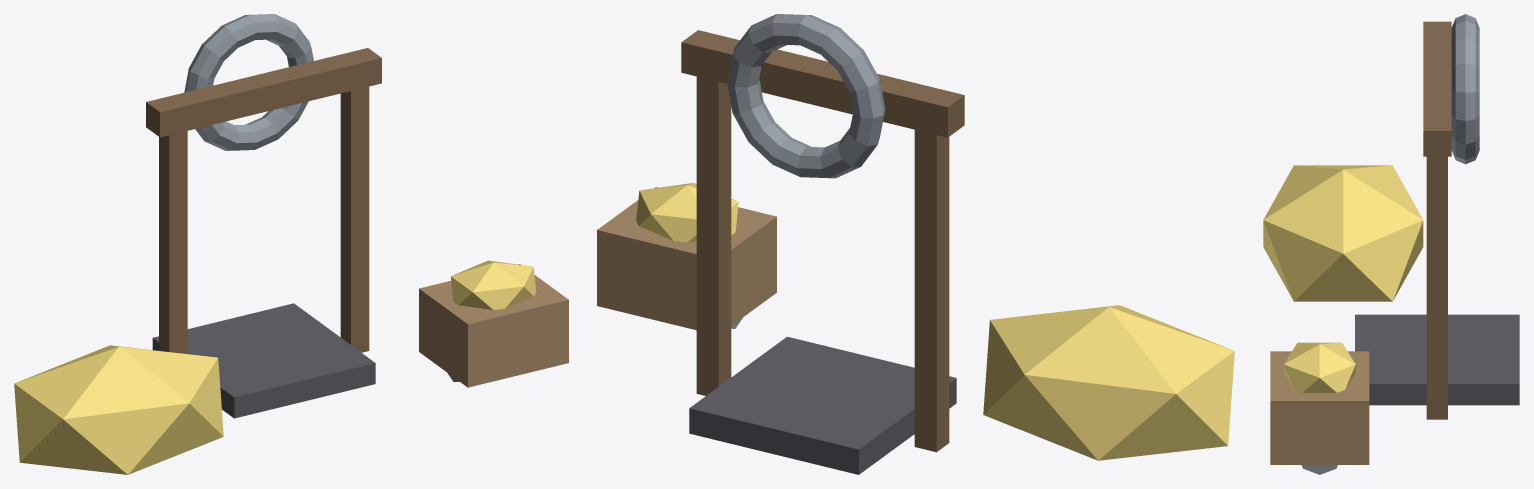
File: gold_mine.glb
3 views of the same model, side by side, from view 1: azimuth 30°, elevation 25°; view 2: azimuth 150°, elevation 25°; view 3: azimuth 270°, elevation 25° (orthographic). The views are drawn at different scales.
Visible parts, largest first — view 1: GoldMineLegL; view 2: GoldMineLegL; view 3: GoldMineLegL.
Part boxes in pixels (x1,y1,x2,y2): GoldMineLegL: [14, 14, 568, 474]; GoldMineLegL: [597, 14, 1234, 474]; GoldMineLegL: [1263, 14, 1519, 474].
Bounding box in the file's own units: 2.54 × 1.74 × 1.09.
